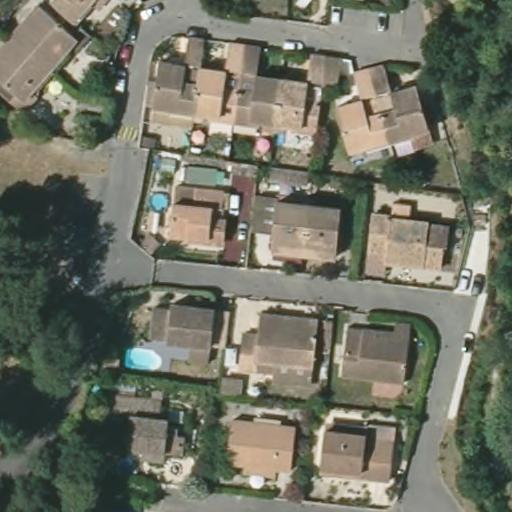pool: (118, 342, 168, 372), (144, 186, 169, 211)
